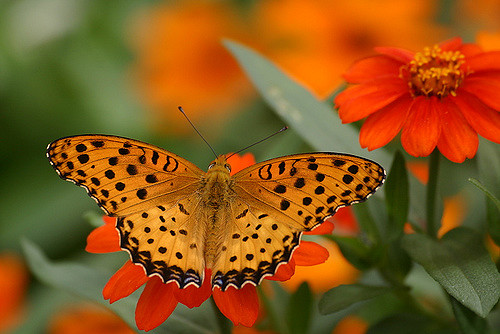Argyreus hyperbius: (42, 105, 389, 293)
butterfly: (44, 107, 391, 295)
